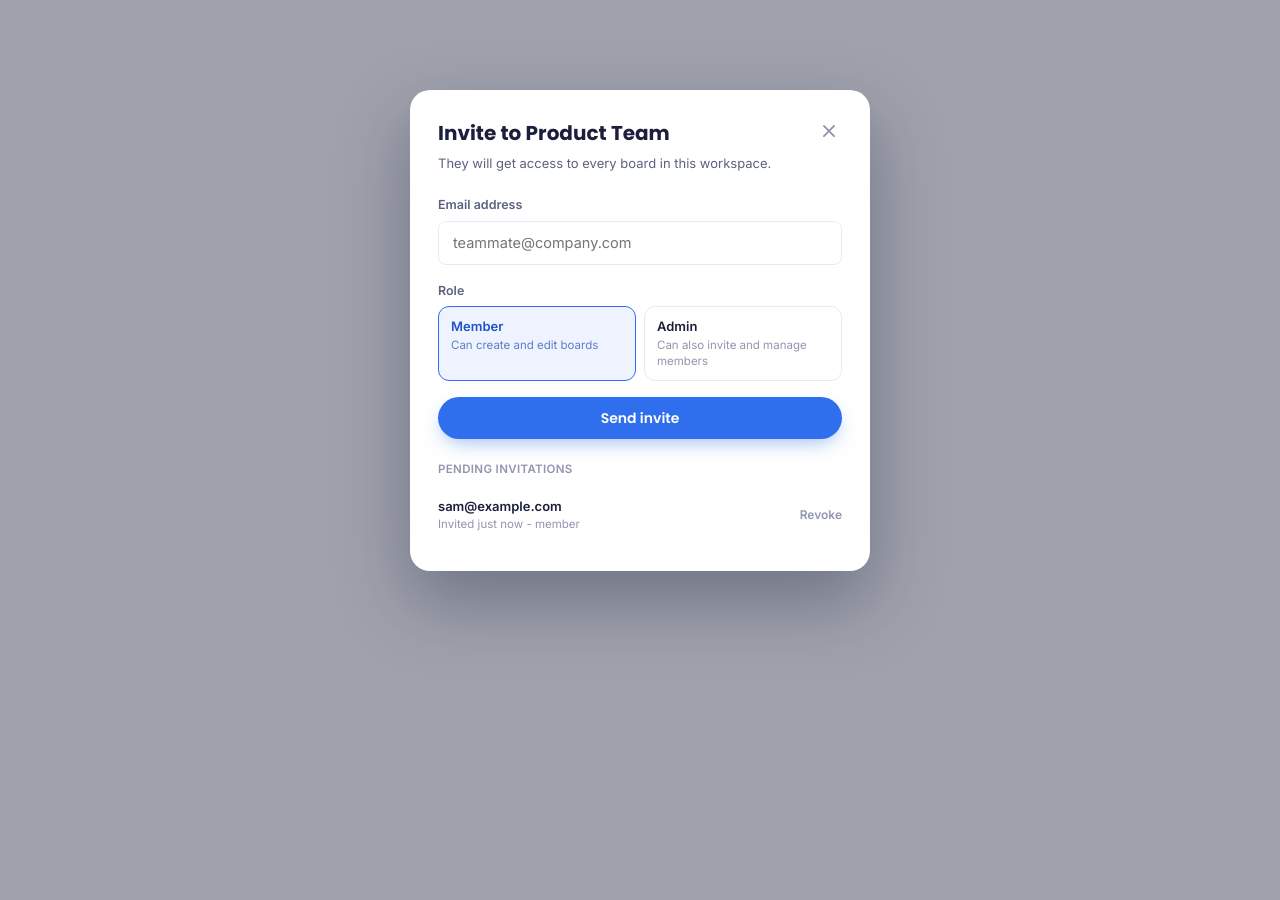
Scenario: InviteModal › revokes a pending invitation and removes it from the list
This screenshot has width=1280, height=900.
Expected: the text "sam@example.com" is shown, [438,496,580,516]
Step 1. Click the button "Revoke" → (821,515), box [800,507,842,522]
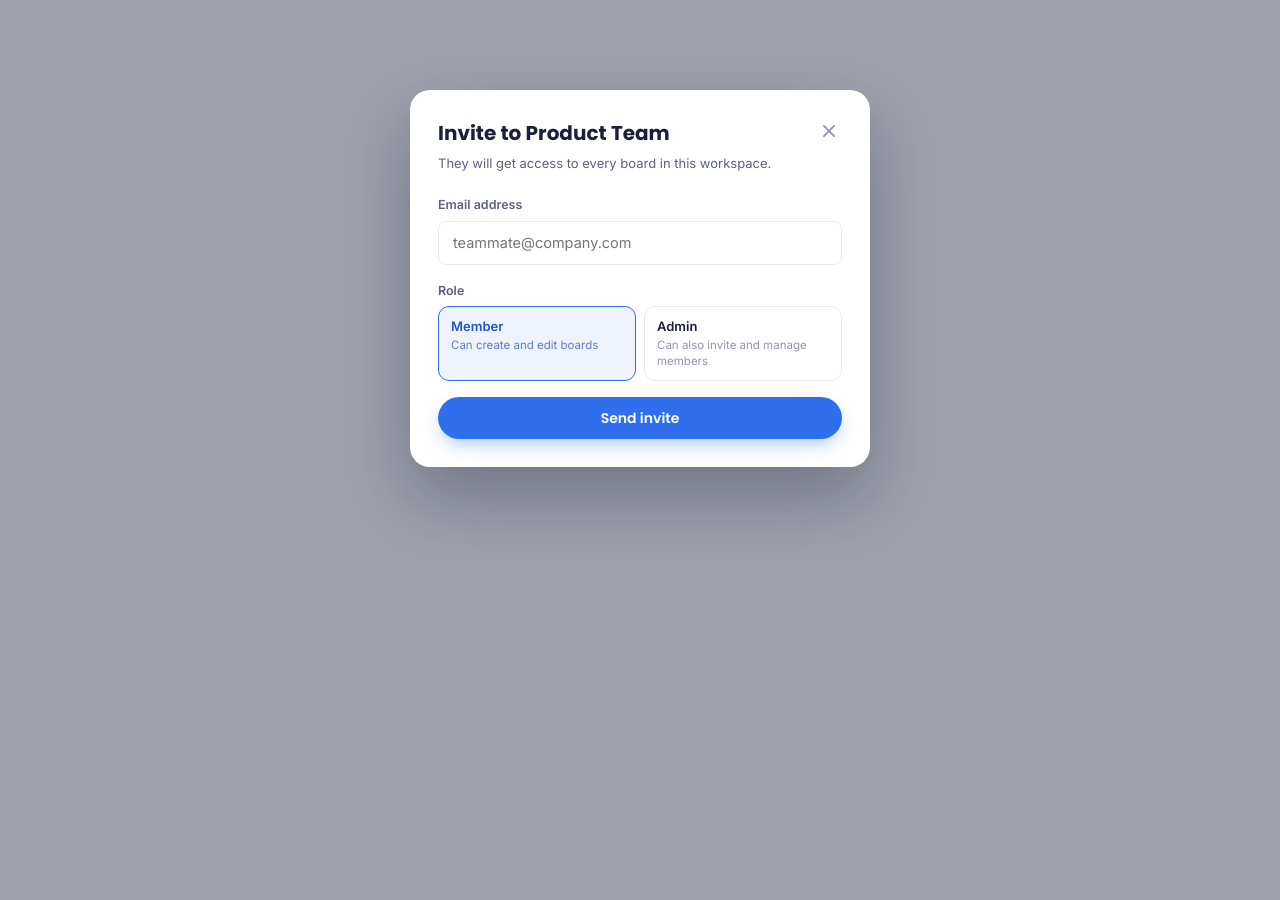
Expected: the text "sam@example.com" is gone
